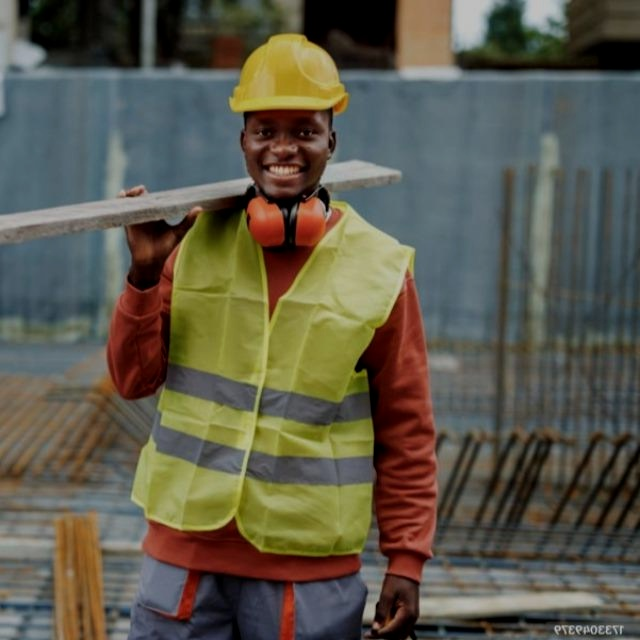Con_Casco: (226, 33, 345, 197)
Con_Chaleco: (133, 200, 400, 533)
